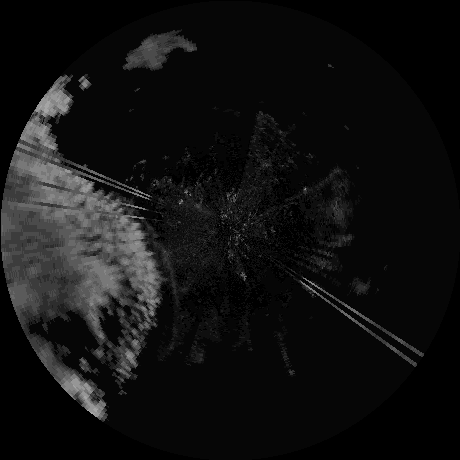frontgust: (146, 221, 179, 313)
